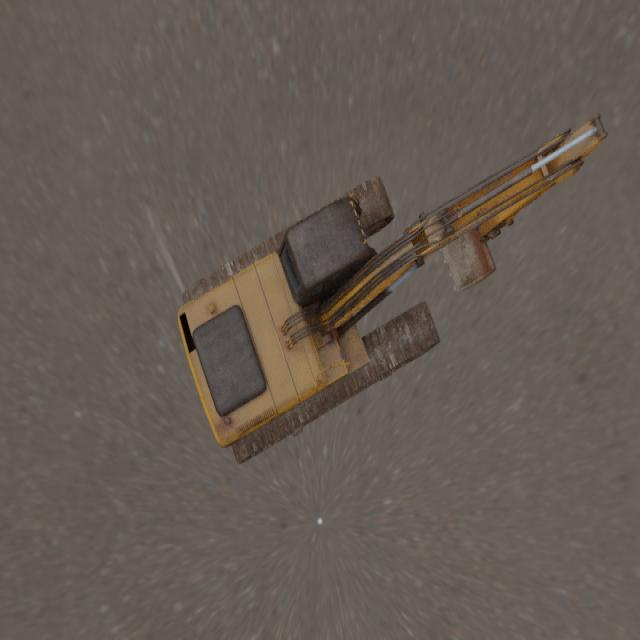excavator: (177, 112, 608, 465)
